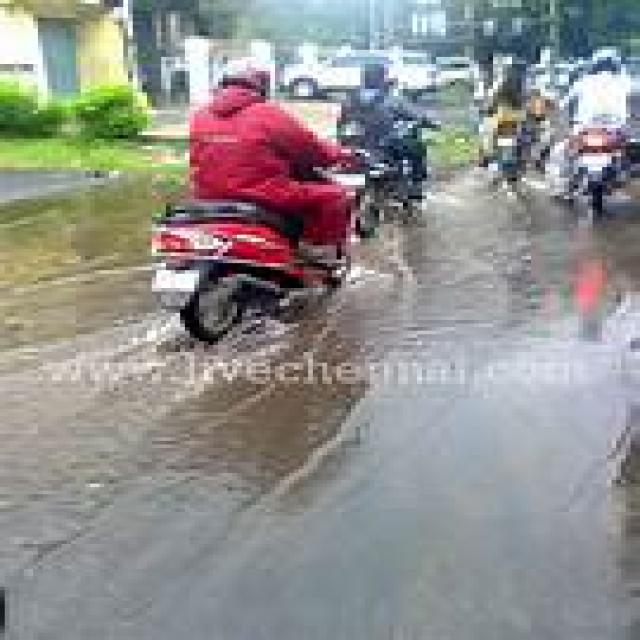Two Wheeler: (152, 199, 350, 341)
